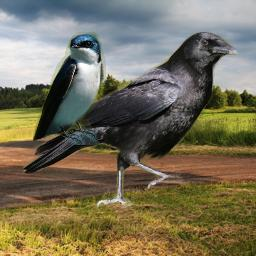Crow: (23, 30, 244, 211)
Swallow: (33, 32, 106, 145)
